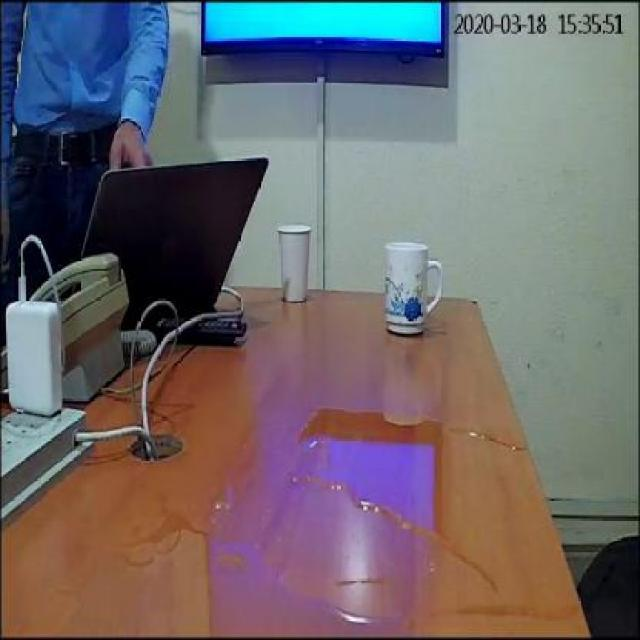spill: (298, 402, 582, 616), (53, 510, 401, 636)
